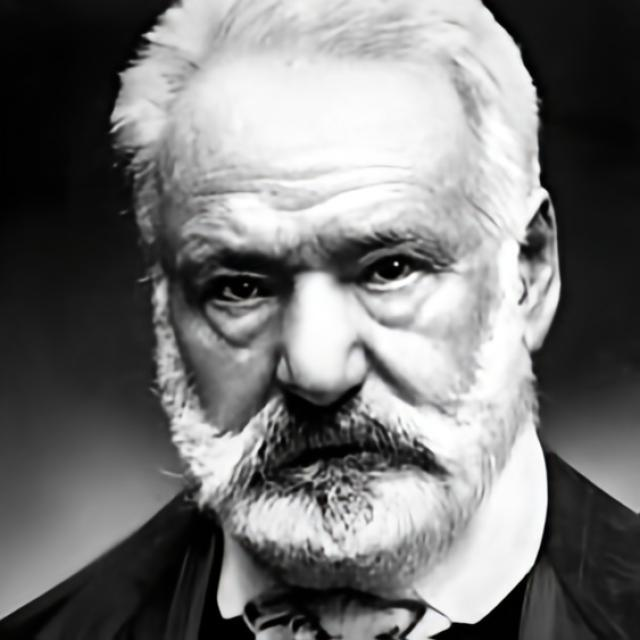anger: (162, 90, 520, 584)
